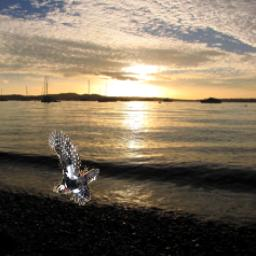Woodpecker: (48, 125, 100, 205)
